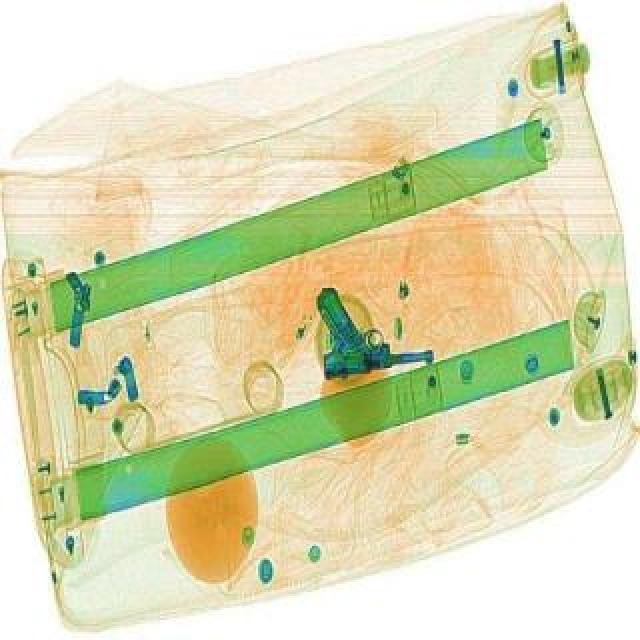gun: (312, 288, 432, 380)
